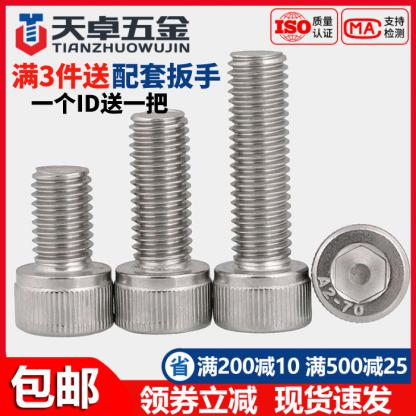FOD: (211, 48, 314, 335), (112, 106, 212, 337), (12, 162, 115, 338), (311, 220, 410, 325)
